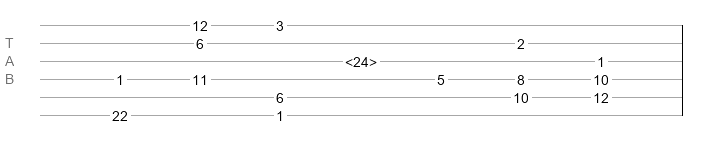1: (116, 72, 124, 82), (276, 108, 284, 118), (597, 54, 605, 64)
10: (513, 90, 529, 100), (593, 72, 609, 82)
11: (192, 72, 208, 82)
12: (192, 18, 208, 28), (593, 90, 609, 100)
2: (517, 36, 525, 46)
22: (112, 108, 128, 118)
3: (276, 18, 284, 28)
5: (437, 72, 445, 82)
6: (196, 36, 204, 46), (276, 90, 284, 100)
8: (517, 72, 525, 82)
harmonic: (345, 54, 377, 64)
